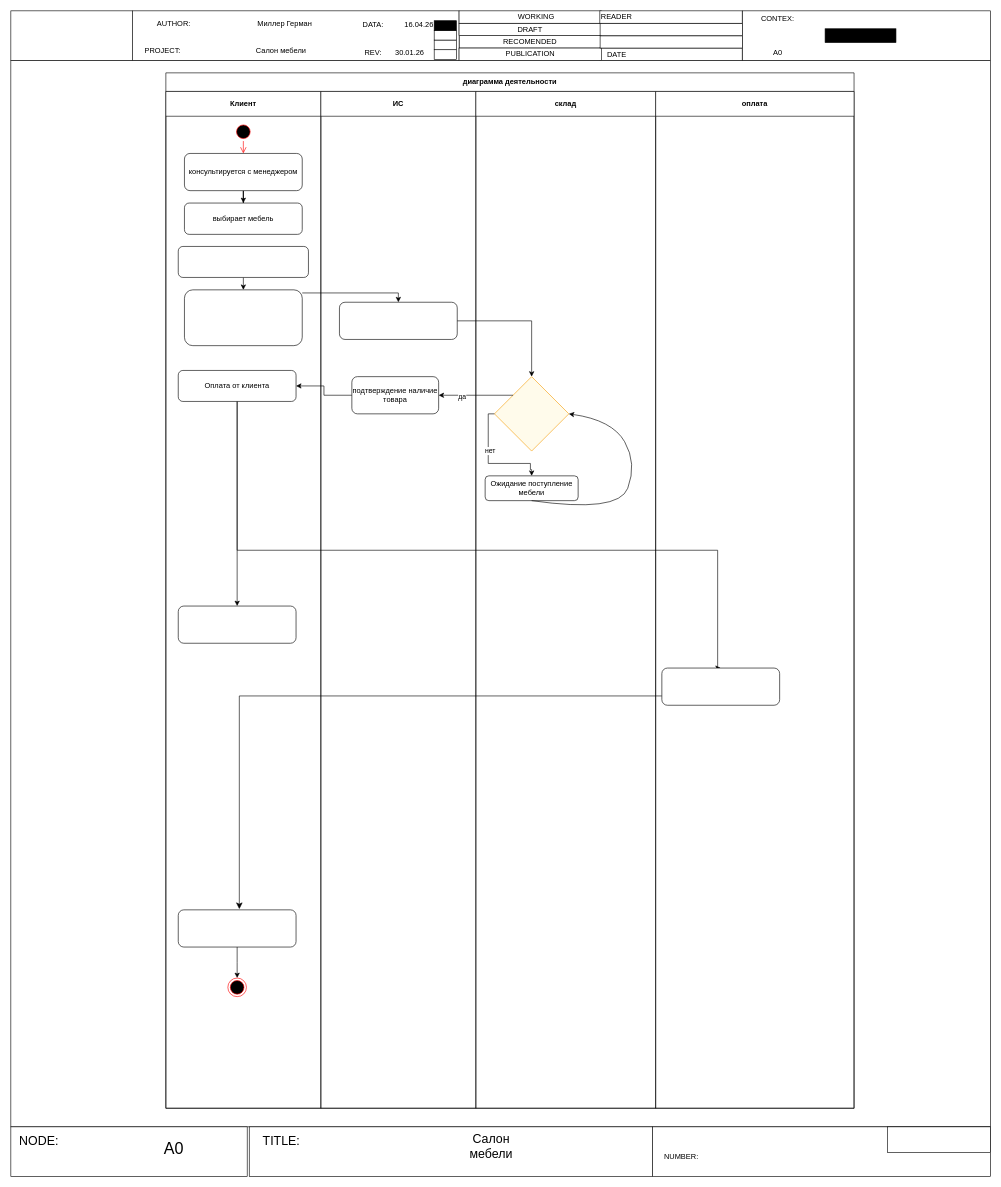
The diagram is 1001 pixels wide and 1187 high, and some of its shapes have lost their labels. The centre of each missing label's shape, as x and y in pixels:
"USED AT:" belongs at (71,35).
"В наличии?" belongs at (531,413).
"Закрытие сделки" belongs at (237,928).
"Заявка на склад" belongs at (398,320).
"оплачивает предоплату" belongs at (243,317).
"отзыв о интернет магазине" belongs at (237,624).
"оформляет заказ" belongs at (243,261).
"подтверждение оплаты" belongs at (720,686).
